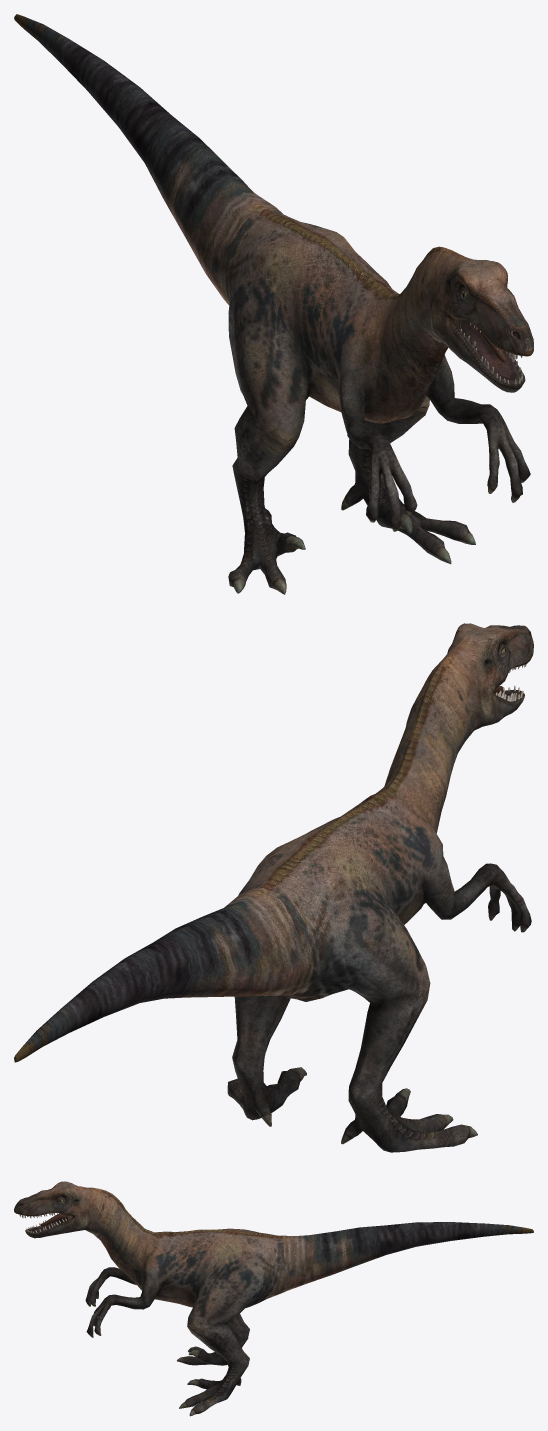
The model's file is raptor.glb.
The picture shows the model from 3 angles, top to bottom: view 1: azimuth 30°, elevation 25°; view 2: azimuth 150°, elevation 25°; view 3: azimuth 270°, elevation 25°; orthographic projection. The views are drawn at different scales.
Bounding box in the file's own units: 437 × 697 × 1621.
Materials: 1 (1 with a texture image).
